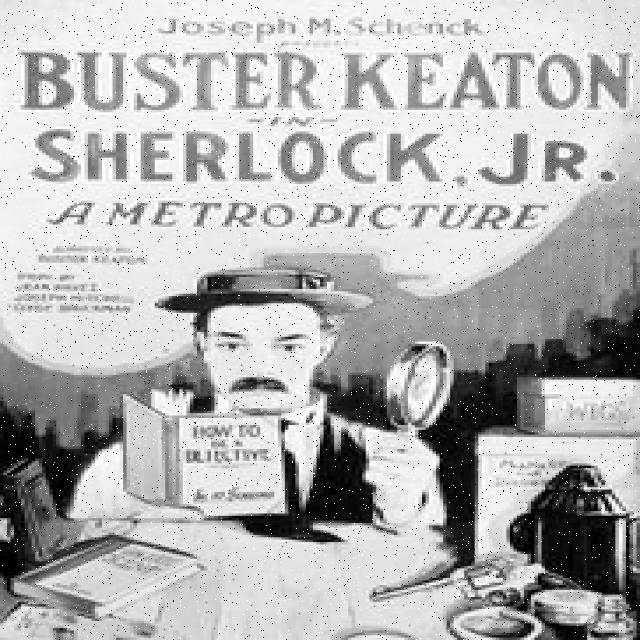movie-judul: (3, 44, 638, 241)
picture: (3, 2, 640, 637)
